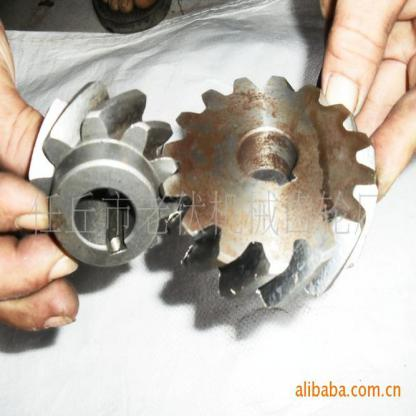FOD: (162, 70, 379, 318), (22, 77, 179, 275)
